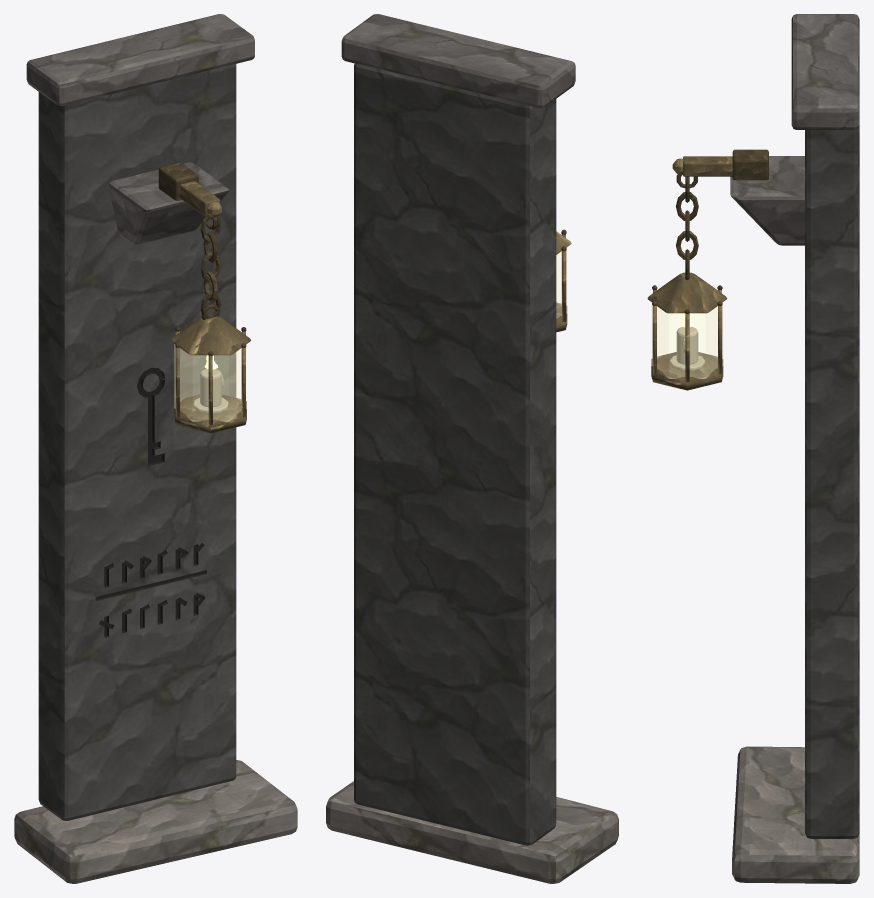
The model's file is bv_wall_lantern.glb.
The picture shows the model from 3 angles, left to right: view 1: azimuth 30°, elevation 25°; view 2: azimuth 150°, elevation 25°; view 3: azimuth 270°, elevation 25°; orthographic projection. The views are drawn at different scales.
Visible parts, largest first — view 1: model; view 2: model; view 3: model.
Boxes of the visible parts, x1,y1,x2,y2 form: model: (14, 14, 297, 883); model: (326, 14, 618, 883); model: (647, 14, 859, 883).
Bounding box in the file's own units: 0.5832 × 1.88 × 0.468.
Materials: 11 (6 with a texture image).
